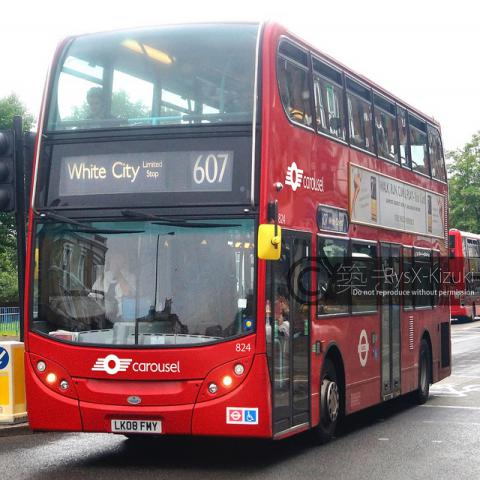bus: (17, 21, 454, 441), (450, 230, 479, 322)
